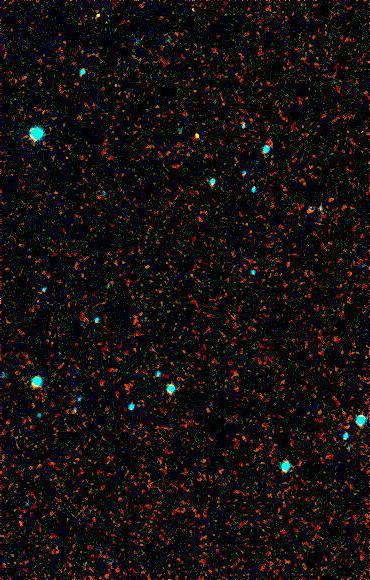star: (82, 0, 112, 28)
